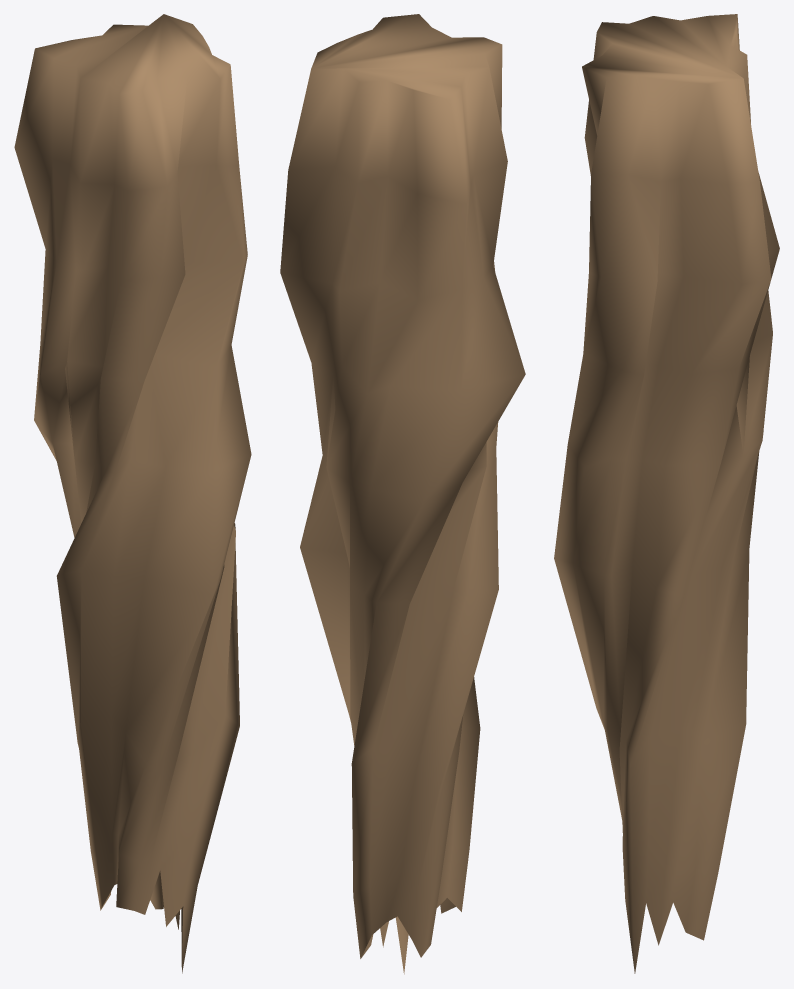
Rendered from CLIFF_01_v01.fbx.
3 renders of one model, left to right at view 1: azimuth 30°, elevation 25°; view 2: azimuth 150°, elevation 25°; view 3: azimuth 270°, elevation 25°, orthographic. The views are drawn at different scales.
Parts seen in each view (by area): view 1: Connect; view 2: Connect; view 3: Connect.
Part boxes in pixels (x1=…): Connect: x1=14, y1=14, x2=251, y2=973; Connect: x1=280, y1=14, x2=525, y2=974; Connect: x1=554, y1=14, x2=779, y2=973.
Size of the model in its own units: 352 by 1484 by 332.
